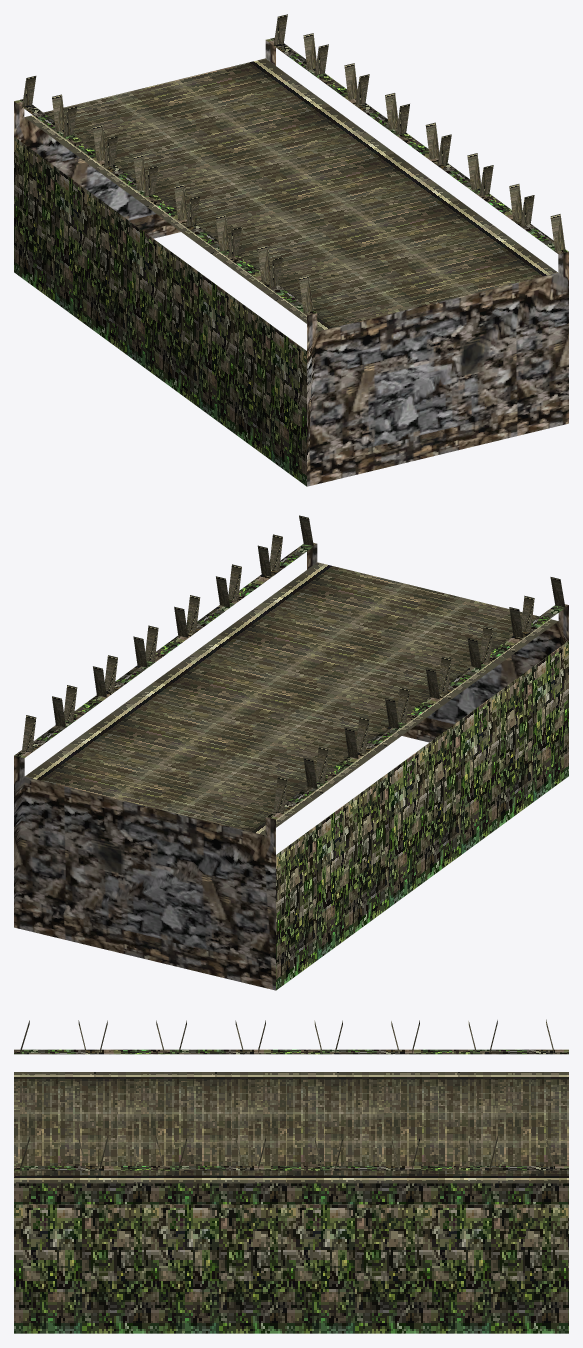
Rendered from Civilian - Civilian Building - Fortress Wall Middle - CMWalAkml1.glb.
3 views of the same model, one above another, from view 1: azimuth 30°, elevation 25°; view 2: azimuth 150°, elevation 25°; view 3: azimuth 270°, elevation 25° (orthographic). The views are drawn at different scales.
Visible parts, largest first — view 1: CMWALAKML1; view 2: CMWALAKML1; view 3: CMWALAKML1.
Part boxes in pixels (x1,y1,x2,y2): CMWALAKML1: [14, 14, 568, 486]; CMWALAKML1: [14, 515, 568, 990]; CMWALAKML1: [14, 1019, 568, 1333].
Size of the model in its own units: 58.67 by 43.6 by 114.
Materials: 5 (5 with a texture image).
